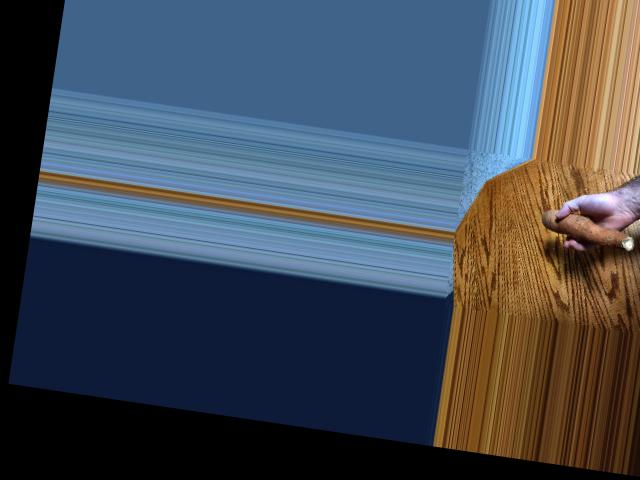sweet_potato: (541, 208, 635, 248)
